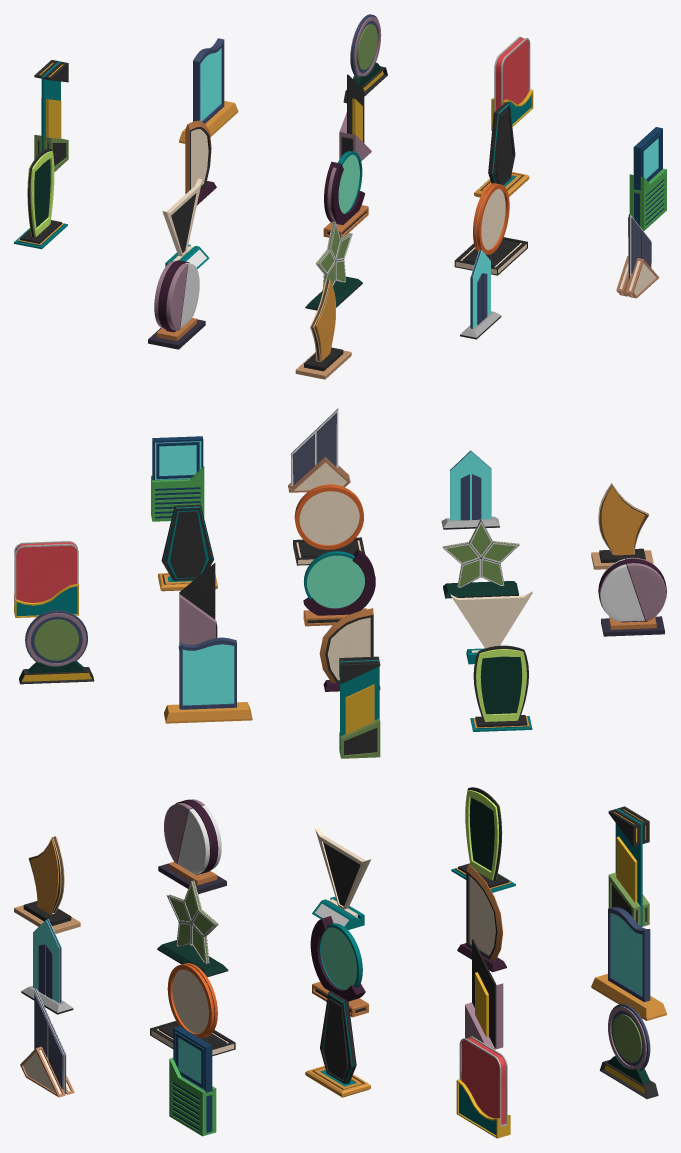
File: Winner_Award_Trophy_Shield_Pack_-_Low_Poly.glb
The picture shows the model from 3 angles, top to bottom: view 1: azimuth 30°, elevation 25°; view 2: azimuth 150°, elevation 25°; view 3: azimuth 270°, elevation 25°; orthographic projection. The views are drawn at different scales.
Visible parts, largest first — view 1: Trophy04_TrophyMaterial_0, Trophy06_TrophyMaterial_0, Trophy07_TrophyMaterial_0, Trophy16_TrophyMaterial_0, Trophy09_TrophyMaterial_0, Trophy14_TrophyMaterial_0, Trophy11_TrophyMaterial_0, Trophy15_TrophyMaterial_0, Trophy01_TrophyMaterial_0, Trophy10_TrophyMaterial_0, Trophy17_TrophyMaterial_0, Trophy03_TrophyMaterial_0 (+5 smaller); view 2: Trophy16_TrophyMaterial_0, Trophy14_TrophyMaterial_0, Trophy04_TrophyMaterial_0, Trophy06_TrophyMaterial_0, Trophy11_TrophyMaterial_0, Trophy09_TrophyMaterial_0, Trophy17_TrophyMaterial_0, Trophy15_TrophyMaterial_0, Trophy07_TrophyMaterial_0, Trophy05_TrophyMaterial_0, Trophy10_TrophyMaterial_0, Trophy02_TrophyMaterial_0 (+5 smaller); view 3: Trophy16_TrophyMaterial_0, Trophy04_TrophyMaterial_0, Trophy14_TrophyMaterial_0, Trophy07_TrophyMaterial_0, Trophy06_TrophyMaterial_0, Trophy09_TrophyMaterial_0, Trophy15_TrophyMaterial_0, Trophy10_TrophyMaterial_0, Trophy11_TrophyMaterial_0, Trophy17_TrophyMaterial_0, Trophy08_TrophyMaterial_0, Trophy05_TrophyMaterial_0 (+5 smaller).
Part boxes in pixels (x1=…): Trophy04_TrophyMaterial_0: x1=148, y1=260, x2=205, y2=349; Trophy06_TrophyMaterial_0: x1=454, y1=183, x2=527, y2=275; Trophy07_TrophyMaterial_0: x1=629, y1=127, x2=666, y2=230; Trophy16_TrophyMaterial_0: x1=179, y1=38, x2=238, y2=143; Trophy09_TrophyMaterial_0: x1=323, y1=151, x2=368, y2=237; Trophy14_TrophyMaterial_0: x1=491, y1=36, x2=533, y2=130; Trophy11_TrophyMaterial_0: x1=14, y1=149, x2=67, y2=249; Trophy15_TrophyMaterial_0: x1=34, y1=60, x2=68, y2=171; Trophy01_TrophyMaterial_0: x1=295, y1=278, x2=351, y2=379; Trophy10_TrophyMaterial_0: x1=474, y1=102, x2=529, y2=197; Trophy17_TrophyMaterial_0: x1=343, y1=14, x2=387, y2=103; Trophy03_TrophyMaterial_0: x1=616, y1=214, x2=659, y2=298; Trophy16_TrophyMaterial_0: x1=164, y1=637, x2=252, y2=723; Trophy14_TrophyMaterial_0: x1=14, y1=541, x2=78, y2=617; Trophy04_TrophyMaterial_0: x1=598, y1=557, x2=666, y2=636; Trophy06_TrophyMaterial_0: x1=293, y1=484, x2=364, y2=565; Trophy11_TrophyMaterial_0: x1=470, y1=645, x2=532, y2=731; Trophy09_TrophyMaterial_0: x1=303, y1=549, x2=375, y2=626; Trophy17_TrophyMaterial_0: x1=19, y1=610, x2=94, y2=684; Trophy15_TrophyMaterial_0: x1=339, y1=656, x2=380, y2=758; Trophy07_TrophyMaterial_0: x1=151, y1=436, x2=204, y2=521; Trophy05_TrophyMaterial_0: x1=442, y1=519, x2=519, y2=598; Trophy10_TrophyMaterial_0: x1=158, y1=504, x2=217, y2=591; Trophy02_TrophyMaterial_0: x1=441, y1=450, x2=499, y2=529; Trophy16_TrophyMaterial_0: x1=591, y1=907, x2=666, y2=1020; Trophy04_TrophyMaterial_0: x1=158, y1=799, x2=226, y2=894; Trophy14_TrophyMaterial_0: x1=456, y1=1036, x2=510, y2=1138; Trophy07_TrophyMaterial_0: x1=169, y1=1026, x2=216, y2=1136; Trophy06_TrophyMaterial_0: x1=150, y1=963, x2=235, y2=1056; Trophy09_TrophyMaterial_0: x1=310, y1=916, x2=368, y2=1017; Trophy15_TrophyMaterial_0: x1=608, y1=806, x2=649, y2=926; Trophy10_TrophyMaterial_0: x1=305, y1=991, x2=370, y2=1097; Trophy11_TrophyMaterial_0: x1=451, y1=787, x2=515, y2=892; Trophy17_TrophyMaterial_0: x1=599, y1=1004, x2=658, y2=1098; Trophy08_TrophyMaterial_0: x1=312, y1=828, x2=370, y2=929; Trophy05_TrophyMaterial_0: x1=157, y1=880, x2=228, y2=977.
Size of the model in its own units: 1.35 by 0.235 by 1.35.
1 material, 1 textured.
